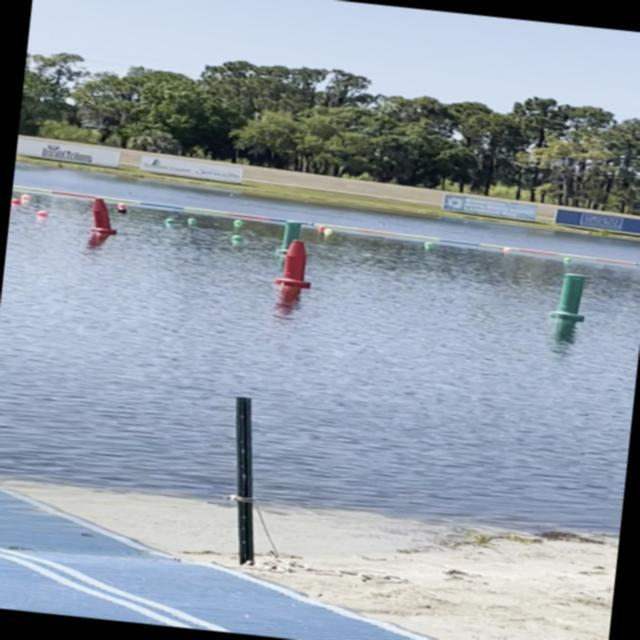buoy: (32, 208, 50, 218), (229, 234, 243, 242), (560, 256, 574, 264), (232, 218, 245, 226), (18, 193, 32, 200), (500, 245, 512, 253), (116, 206, 129, 213), (164, 217, 176, 224), (422, 240, 434, 247), (10, 196, 22, 203), (186, 217, 197, 224), (323, 228, 334, 235), (316, 224, 325, 231), (116, 202, 125, 208)
